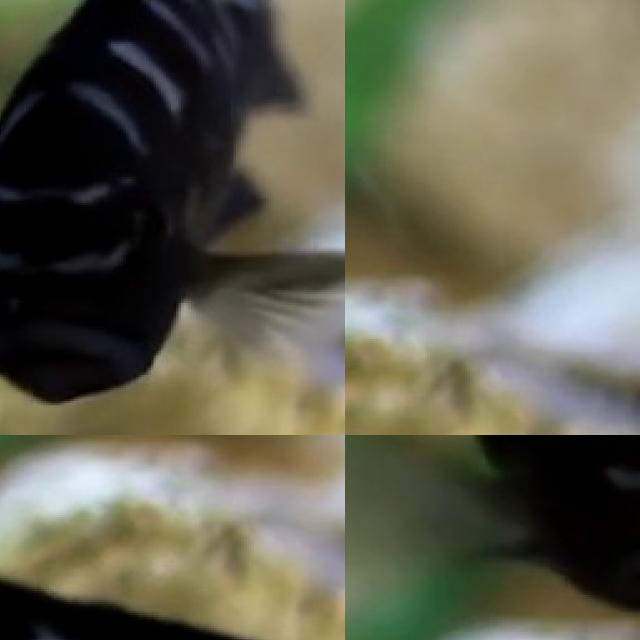fish: (0, 0, 345, 435), (0, 435, 345, 640), (345, 435, 640, 640)
